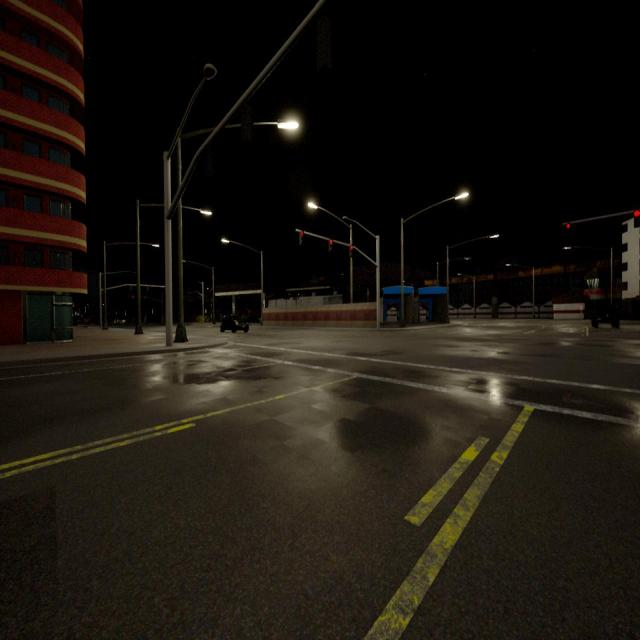Traffic_Signs: (580, 305, 583, 309)
Vehicle: (592, 304, 618, 328), (221, 315, 248, 333), (248, 313, 258, 323)
traffic_light: (317, 13, 329, 63), (241, 103, 252, 138), (633, 209, 640, 226), (328, 239, 332, 252), (300, 231, 304, 244), (349, 246, 353, 257), (567, 223, 570, 229), (132, 296, 134, 299), (131, 285, 132, 290), (144, 296, 146, 298), (148, 287, 148, 290)
